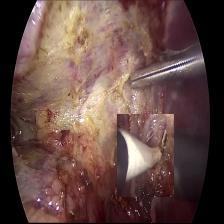Grasper: (129, 34, 207, 98)
Hook: (117, 114, 174, 197)
